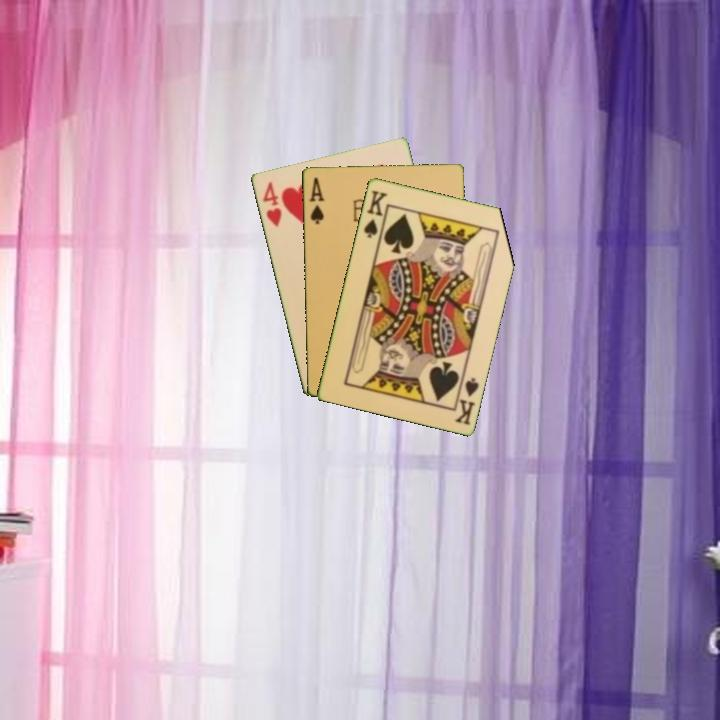4h: (259, 178, 284, 229)
As: (306, 174, 327, 226)
Ks: (451, 370, 482, 427), (360, 186, 390, 242)
